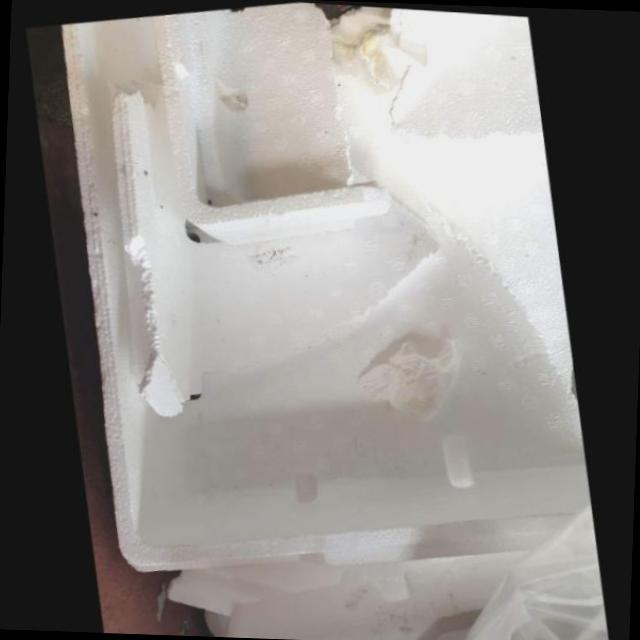xop: (63, 4, 591, 571), (154, 0, 391, 244), (164, 546, 530, 640), (390, 6, 543, 138)
